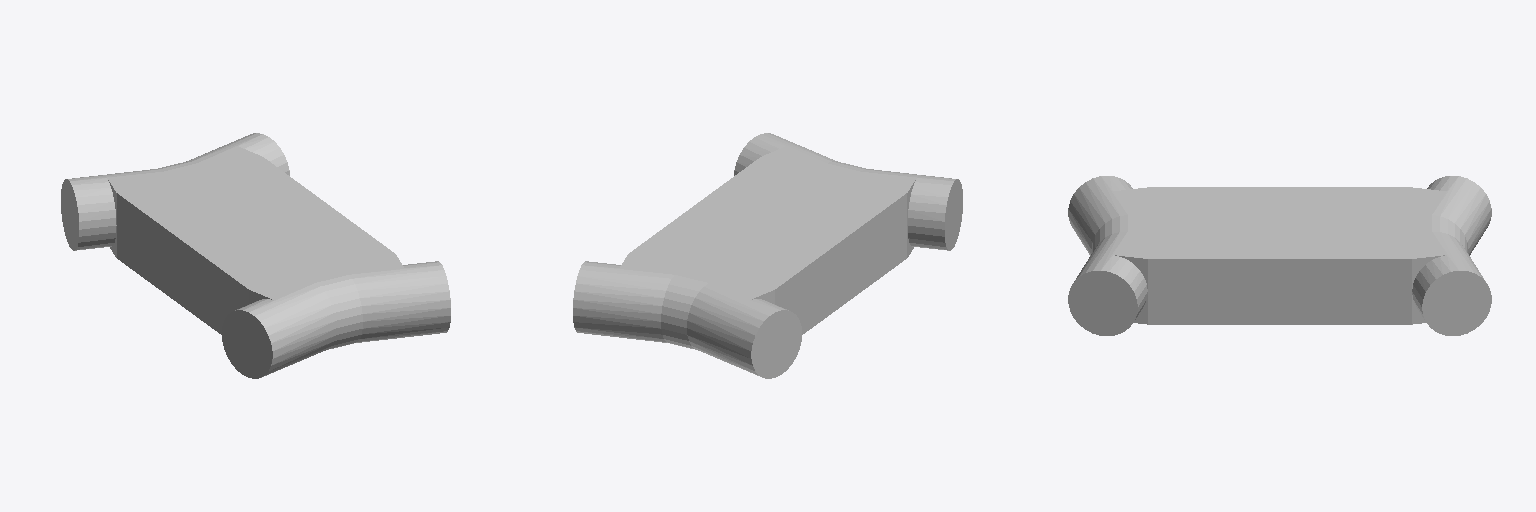
Rendered from soft_body_simplified_15_deg.obj.
3 views of the same model, side by side, from view 1: azimuth 30°, elevation 25°; view 2: azimuth 150°, elevation 25°; view 3: azimuth 270°, elevation 25° (orthographic).
Visible parts, largest first — view 1: Solid1; view 2: Solid1; view 3: Solid1.
Boxes of the visible parts, <box> form: Solid1: <box>61,133,450,378</box>; Solid1: <box>573,133,962,378</box>; Solid1: <box>1068,176,1491,335</box>.
Bounding box in the file's own units: 216 × 64 × 375.